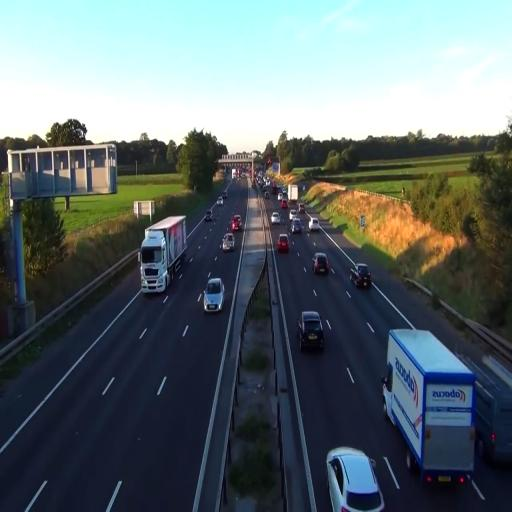vehicle: (381, 324, 478, 489), (381, 325, 477, 489), (326, 445, 385, 512), (140, 214, 188, 295), (298, 310, 324, 352), (203, 275, 225, 312), (351, 262, 372, 290), (313, 252, 330, 276), (221, 232, 235, 252), (276, 234, 290, 254), (230, 214, 242, 234), (292, 217, 304, 235), (308, 215, 320, 232)
